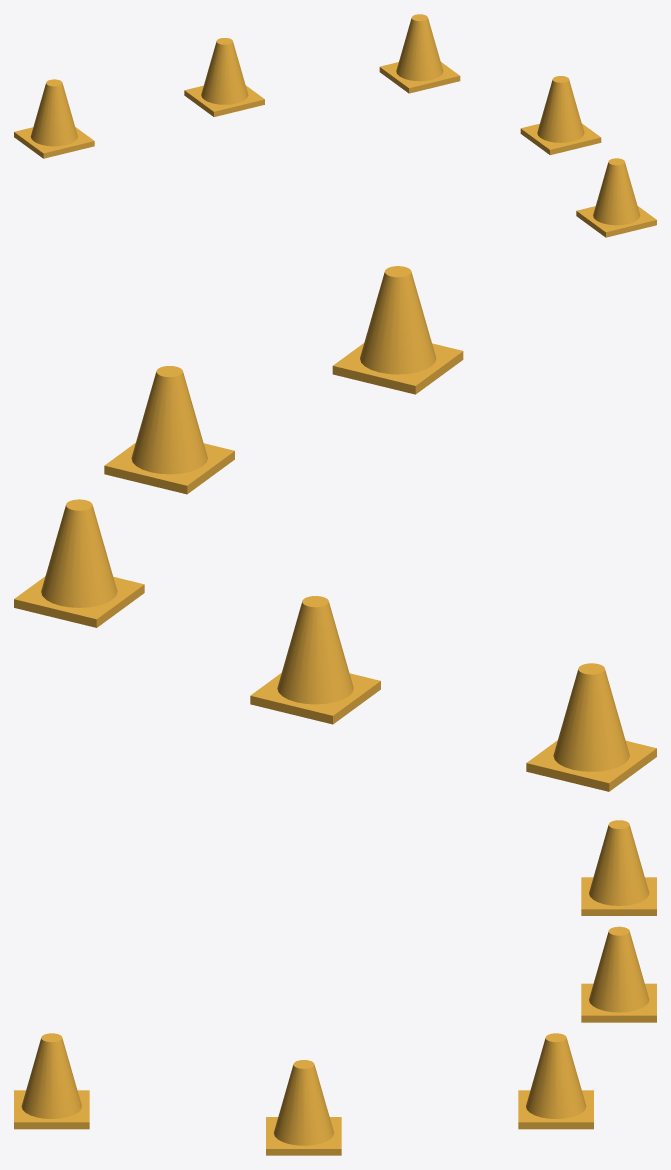
The model's file is Level_2_0-No-Elevator-Items.fbx.
3 views of the same model, one above another, from view 1: azimuth 30°, elevation 25°; view 2: azimuth 150°, elevation 25°; view 3: azimuth 270°, elevation 25° (orthographic). The views are drawn at different scales.
Visible parts, largest first — view 1: pylon (×5); view 2: pylon (×5); view 3: pylon (×5).
Part boxes in pixels (left/top/right/bottom): pylon (×5): left=14, top=14, right=656, bottom=237; pylon (×5): left=14, top=266, right=656, bottom=791; pylon (×5): left=14, top=820, right=656, bottom=1155.
Size of the model in its own units: 20.4 by 2.64 by 20.4.
